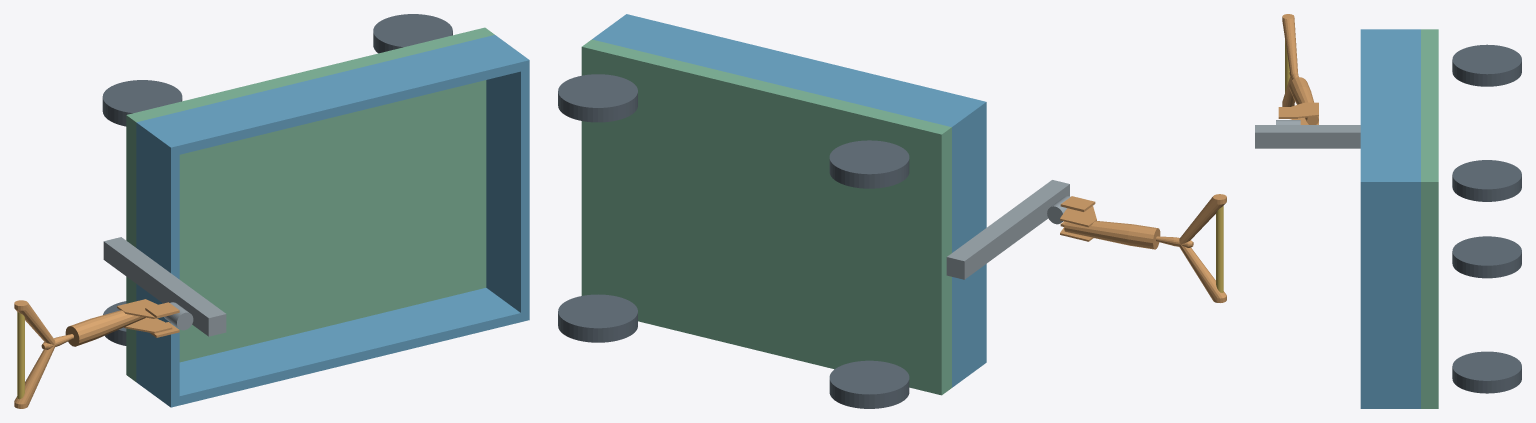
Rendered from cart_collision.glb.
The picture shows the model from 3 angles, left to right: view 1: azimuth 30°, elevation 25°; view 2: azimuth 150°, elevation 25°; view 3: azimuth 270°, elevation 25°; orthographic projection. The views are drawn at different scales.
Parts seen in each view (by area): view 1: cart_deck_frame, cart_side_left, cart_side_right, cart_end_rear, cart_end_front, cart_mast, cart_wheel_80_190, cart_wheel_570_190, cart_drawbar, cart_bite_yoke_right, cart_bite_bar, cart_bite_yoke_left (+2 smaller); view 2: cart_deck_frame, cart_side_left, cart_end_front, cart_mast, cart_wheel_80_-190, cart_wheel_80_190, cart_wheel_570_190, cart_wheel_570_-190, cart_drawbar, cart_bite_yoke_right, cart_bite_yoke_left, cart_bite_bar; view 3: cart_end_rear, cart_side_left, cart_deck_frame, cart_mast, cart_wheel_570_-190, cart_wheel_80_-190, cart_wheel_80_190, cart_wheel_570_190, cart_bite_yoke_left, cart_drawbar, cart_side_right, cart_pitch_offset_plate_y12p5.
Boxes of the visible parts, <box> form: cart_deck_frame: <box>126,27,494,381</box>; cart_side_left: <box>136,35,529,156</box>; cart_side_right: <box>136,288,529,407</box>; cart_end_rear: <box>486,69,529,312</box>; cart_end_front: <box>136,132,179,398</box>; cart_mast: <box>103,237,226,336</box>; cart_wheel_80_190: <box>102,80,182,126</box>; cart_wheel_570_190: <box>373,14,452,53</box>; cart_drawbar: <box>65,310,145,346</box>; cart_bite_yoke_right: <box>14,345,55,408</box>; cart_bite_bar: <box>17,312,24,399</box>; cart_bite_yoke_left: <box>14,300,55,344</box>; cart_deck_frame: <box>581,39,951,395</box>; cart_side_left: <box>592,14,986,135</box>; cart_end_front: <box>952,111,986,378</box>; cart_mast: <box>946,180,1069,279</box>; cart_wheel_80_-190: <box>829,360,909,408</box>; cart_wheel_80_190: <box>829,140,909,188</box>; cart_wheel_570_190: <box>558,74,637,122</box>; cart_wheel_570_-190: <box>558,294,637,342</box>; cart_drawbar: <box>1064,221,1160,249</box>; cart_bite_yoke_right: <box>1179,244,1226,302</box>; cart_bite_yoke_left: <box>1179,194,1226,244</box>; cart_bite_bar: <box>1216,206,1223,292</box>; cart_end_rear: <box>1360,190,1420,400</box>; cart_side_left: <box>1360,29,1420,190</box>; cart_deck_frame: <box>1421,29,1438,408</box>; cart_mast: <box>1255,125,1360,148</box>; cart_wheel_570_-190: <box>1452,351,1521,393</box>; cart_wheel_80_-190: <box>1452,236,1521,278</box>; cart_wheel_80_190: <box>1452,44,1521,86</box>; cart_wheel_570_190: <box>1452,160,1521,201</box>; cart_bite_yoke_left: <box>1282,14,1298,75</box>; cart_drawbar: <box>1289,77,1318,124</box>; cart_side_right: <box>1360,401,1420,408</box>; cart_pitch_offset_plate_y12p5: <box>1291,102,1318,118</box>.
Size of the model in its own units: 1.01 by 0.45 by 0.48.
